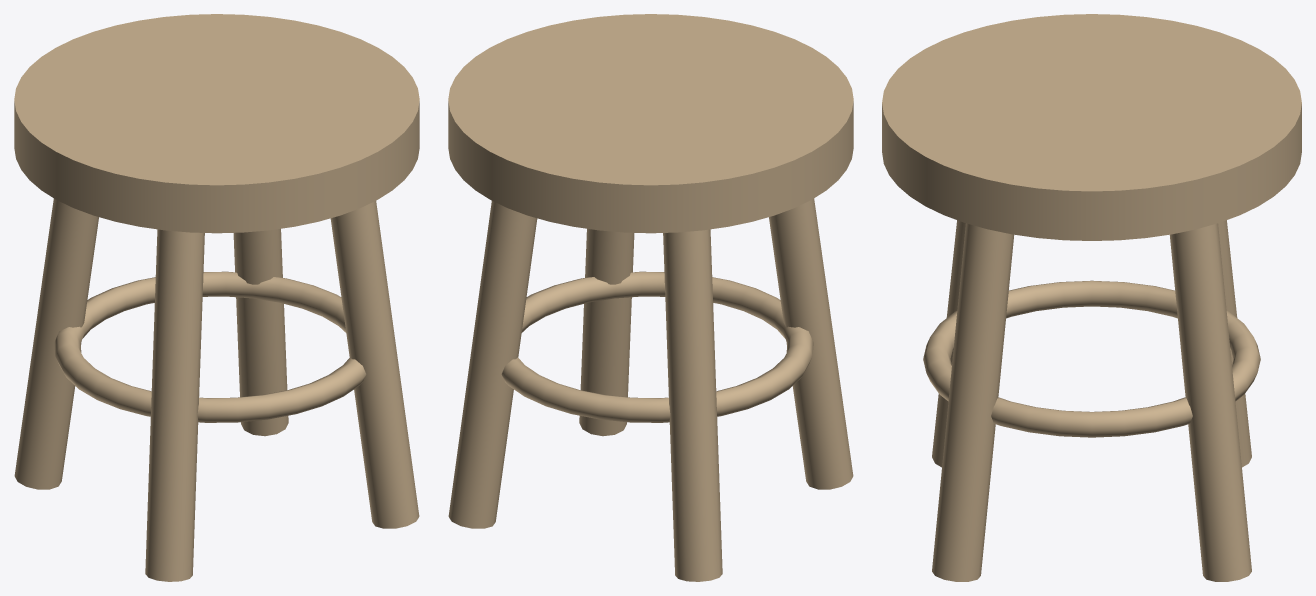
Rendered from textile-weaving-and-dye-workshop-work-stool-1c9642c6__29576.glb.
3 renders of one model, left to right at view 1: azimuth 30°, elevation 25°; view 2: azimuth 150°, elevation 25°; view 3: azimuth 270°, elevation 25°, orthographic. The views are drawn at different scales.
Visible parts, largest first — view 1: work-stool; view 2: work-stool; view 3: work-stool.
Part boxes in pixels (left/top/right/bottom): work-stool: left=14, top=14, right=419, bottom=581; work-stool: left=448, top=14, right=853, bottom=581; work-stool: left=882, top=14, right=1301, bottom=581.
Bounding box in the file's own units: 0.46 × 0.5034 × 0.46.
